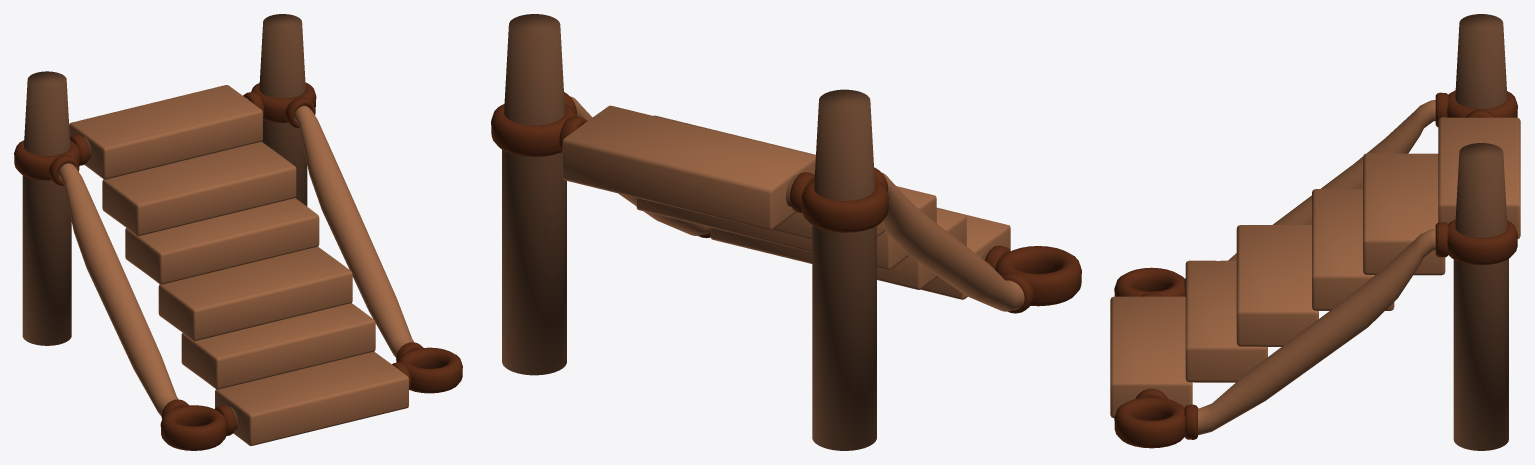
Rendered from step_wood.glb.
3 renders of one model, left to right at view 1: azimuth 30°, elevation 25°; view 2: azimuth 150°, elevation 25°; view 3: azimuth 270°, elevation 25°, orthographic. The views are drawn at different scales.
Parts seen in each view (by area): view 1: step_wood; view 2: step_wood; view 3: step_wood.
Boxes of the visible parts, left/top/right/bottom form: step_wood: left=14, top=14, right=462, bottom=450; step_wood: left=491, top=14, right=1081, bottom=450; step_wood: left=1110, top=14, right=1520, bottom=450.
Size of the model in its own units: 5.8 by 4.85 by 6.26.
